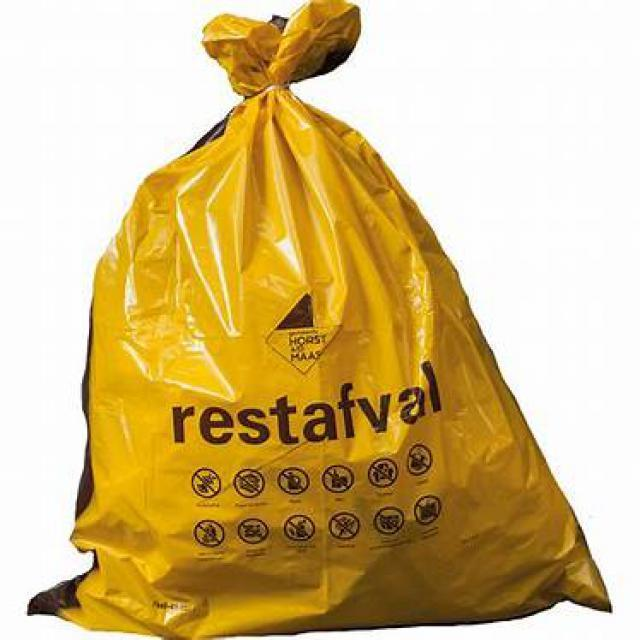waste: (70, 0, 601, 626)
